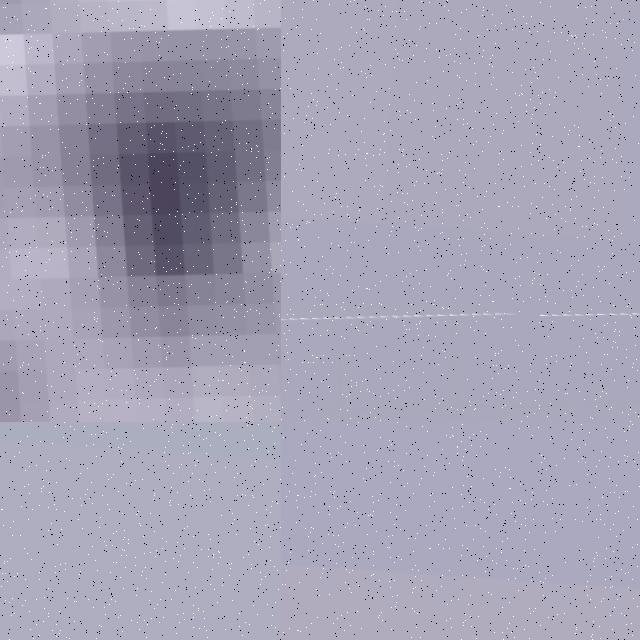drone: (0, 0, 281, 422), (281, 289, 640, 422)
